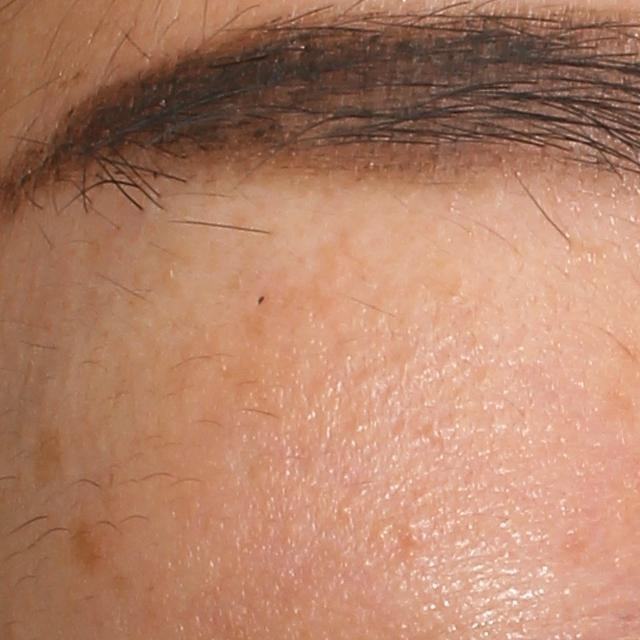melasma: (33, 426, 71, 485)
